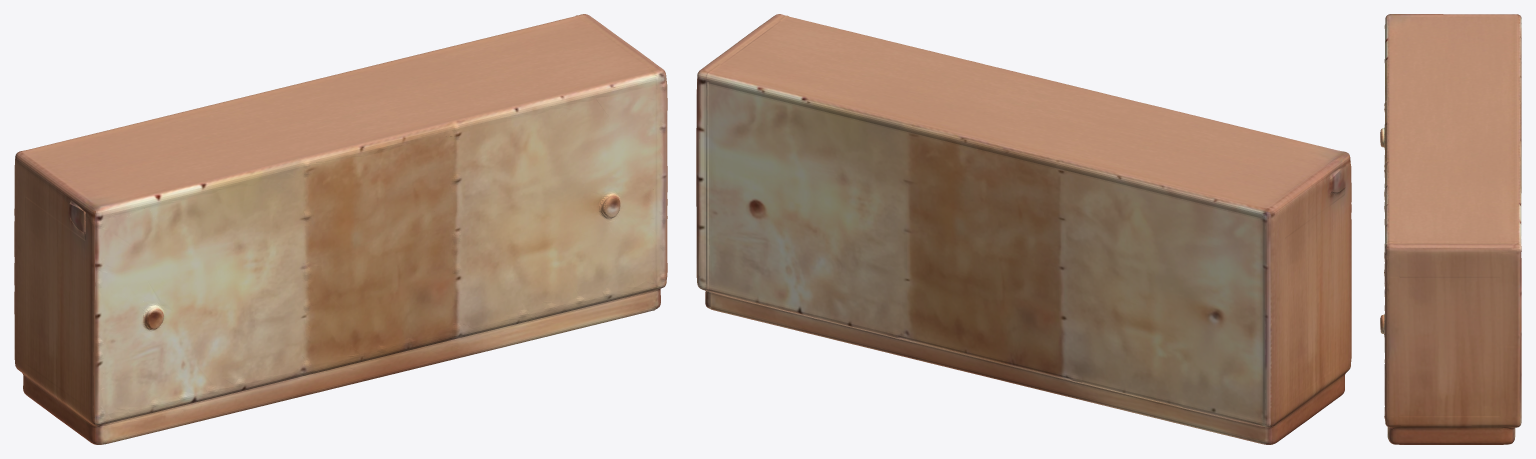
Rendered from product-farmhouse-calypso-90-natural-wood-storage-media-console-06.glb.
The picture shows the model from 3 angles, left to right: view 1: azimuth 30°, elevation 25°; view 2: azimuth 150°, elevation 25°; view 3: azimuth 270°, elevation 25°; orthographic projection. The views are drawn at different scales.
Visible parts, largest first — view 1: geometry_0; view 2: geometry_0; view 3: geometry_0.
Boxes of the visible parts, x1=… form: geometry_0: x1=14, y1=14, x2=667, y2=444; geometry_0: x1=696, y1=14, x2=1351, y2=444; geometry_0: x1=1380, y1=14, x2=1521, y2=444.
Bounding box in the file's own units: 2.29 × 0.9106 × 0.5805.
1 material, 1 textured.
